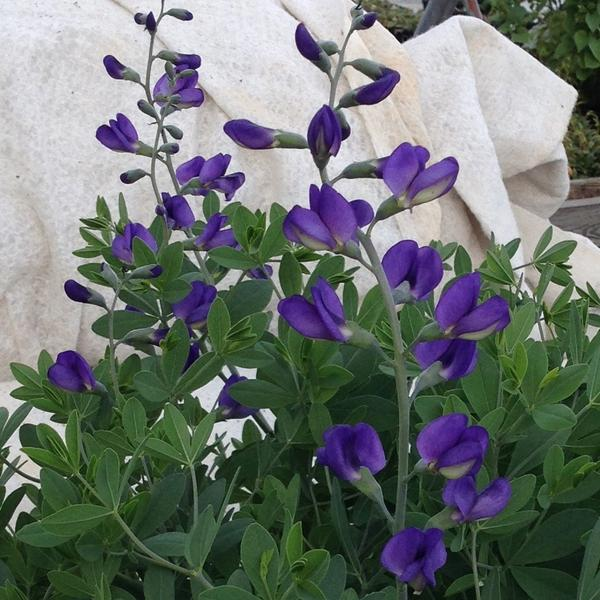violet: (427, 264, 511, 385), (275, 182, 374, 269), (371, 517, 461, 592), (408, 411, 497, 484), (306, 416, 397, 482), (285, 286, 365, 348), (382, 235, 445, 303), (173, 155, 247, 205), (440, 479, 513, 525)
